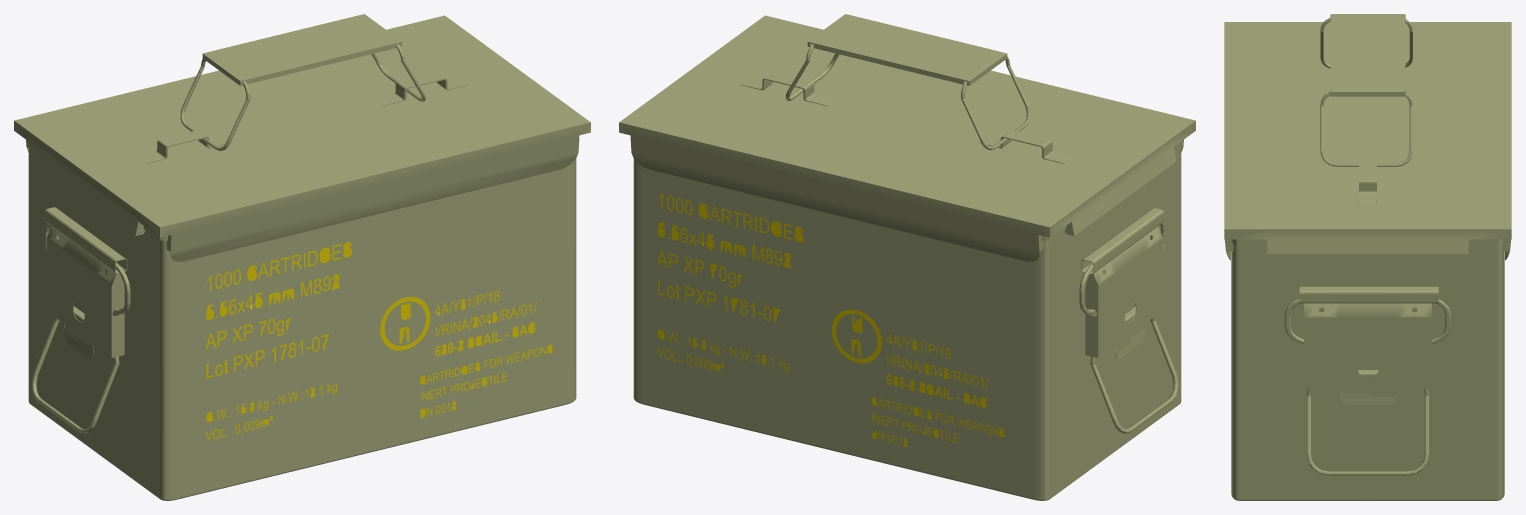
Rendered from ammo box gumroad.fbx.
3 renders of one model, left to right at view 1: azimuth 30°, elevation 25°; view 2: azimuth 150°, elevation 25°; view 3: azimuth 270°, elevation 25°, orthographic.
Visible parts, largest first — view 1: Ammo box; view 2: Ammo box; view 3: Ammo box.
Part boxes in pixels (x1,y1,x2,y2): Ammo box: [14, 14, 590, 500]; Ammo box: [619, 14, 1195, 500]; Ammo box: [1224, 14, 1511, 500].
Bounding box in the file's own units: 191 × 133 × 98.83.
